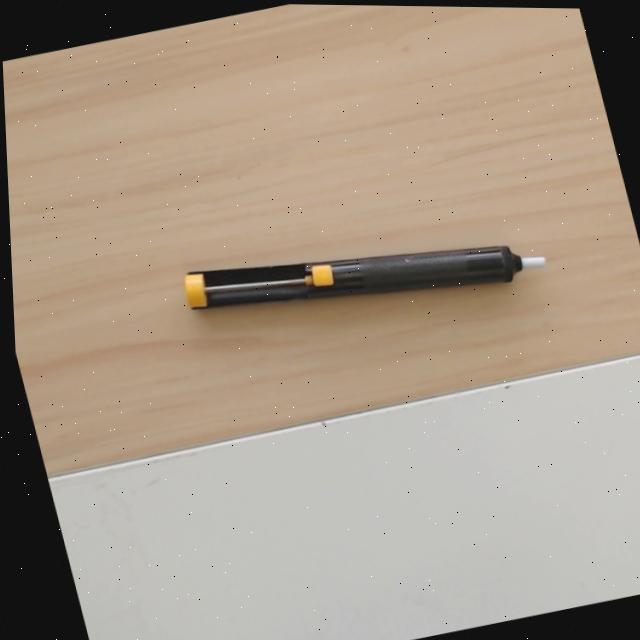Desoldering-Pump: (181, 241, 547, 311)
